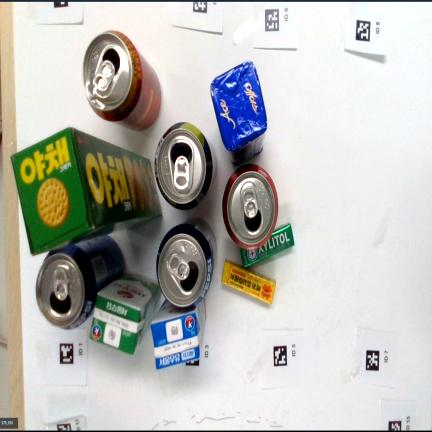can_coke_decaf: (83, 31, 161, 130)
can_coke_zero: (223, 164, 278, 249)
can_pepsi: (36, 235, 124, 329)
can_pepsi_zero: (155, 122, 214, 209)
cracker_ace: (211, 61, 267, 165)
cracker_vege: (12, 127, 161, 254)
gum_green: (240, 224, 294, 267)
gum_yellow: (221, 260, 275, 304)
milk_blue: (151, 300, 206, 369)
milk_green: (90, 273, 161, 354)
